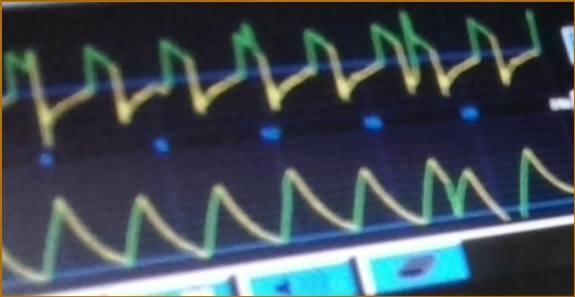Double_Triggering Flow: (5, 6, 542, 139)
Double_Triggering Volume: (2, 148, 575, 284)
